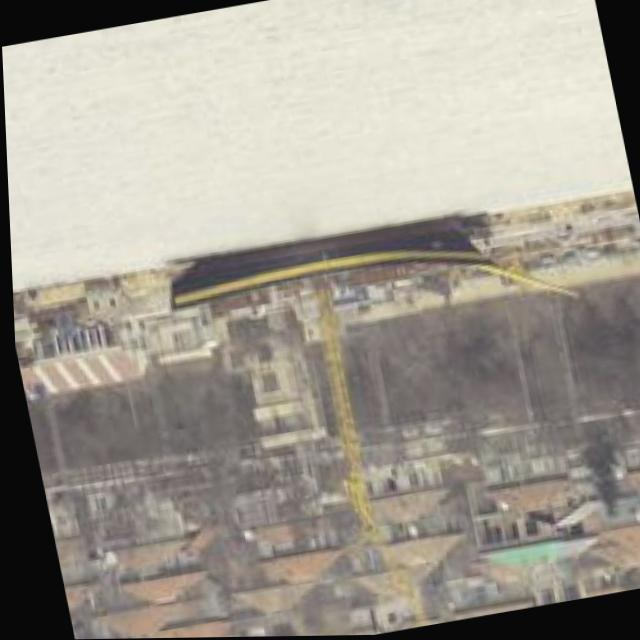ship2: (168, 216, 576, 536)
